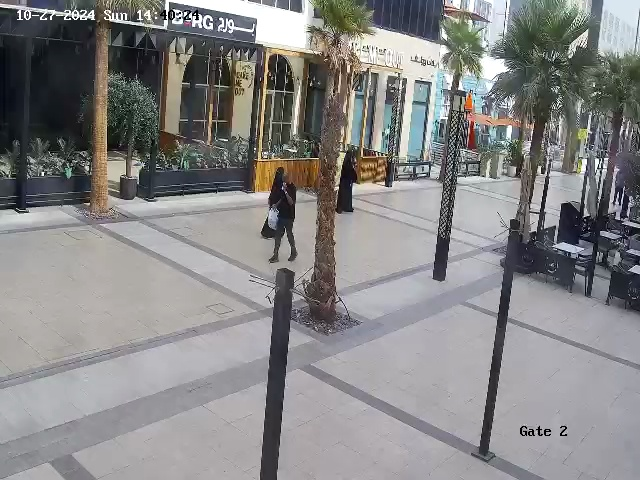female: (258, 162, 285, 246), (336, 149, 358, 214)
male: (276, 169, 298, 264)
